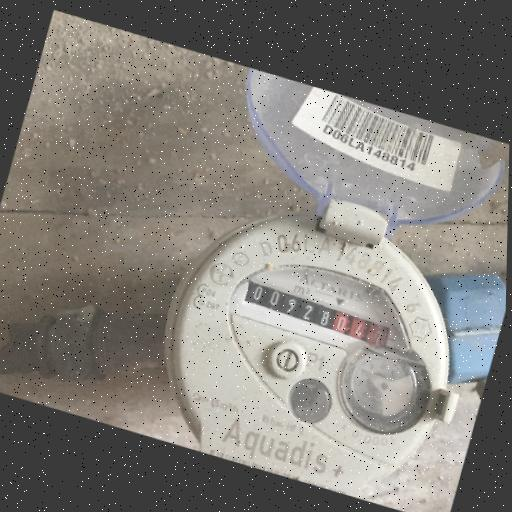0: (247, 282, 268, 307), (264, 287, 284, 312), (331, 310, 350, 334)
2: (299, 299, 319, 324)
4: (349, 316, 368, 341)
7: (364, 322, 391, 353)
8: (316, 305, 335, 330)
9: (280, 293, 300, 318)
border_water_meter_number: (239, 279, 394, 353)
